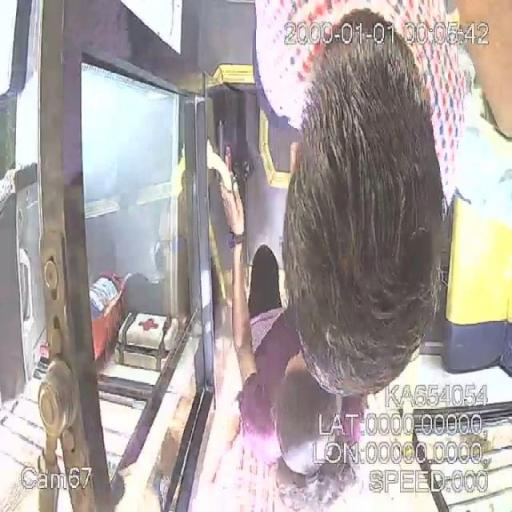persona: (248, 0, 491, 402), (215, 162, 378, 499)
